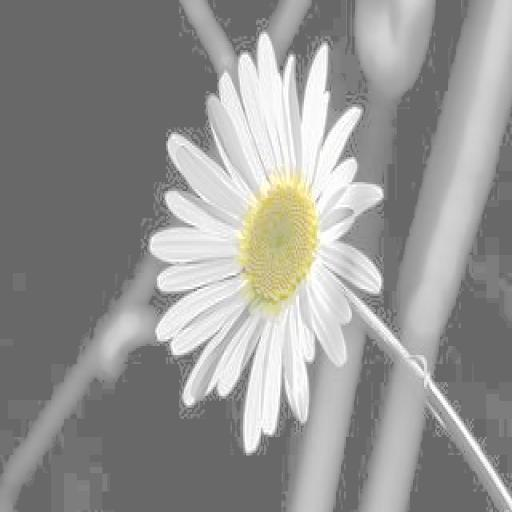daisy: (166, 68, 373, 430)
